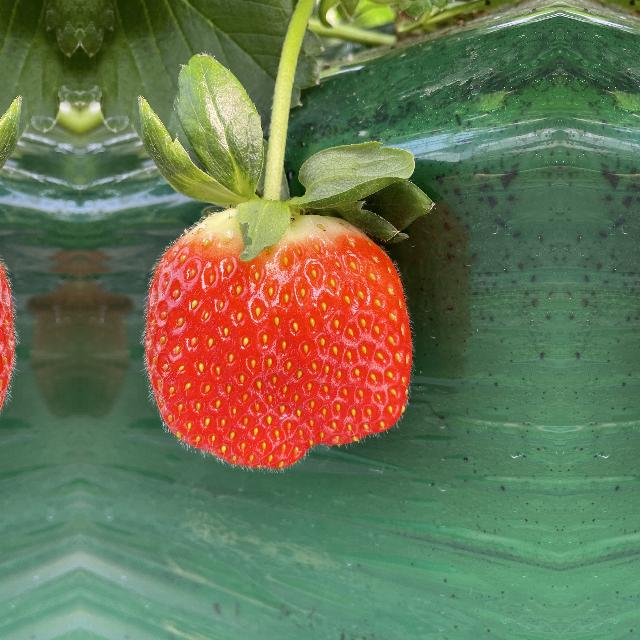Health_100: (138, 210, 426, 478)
